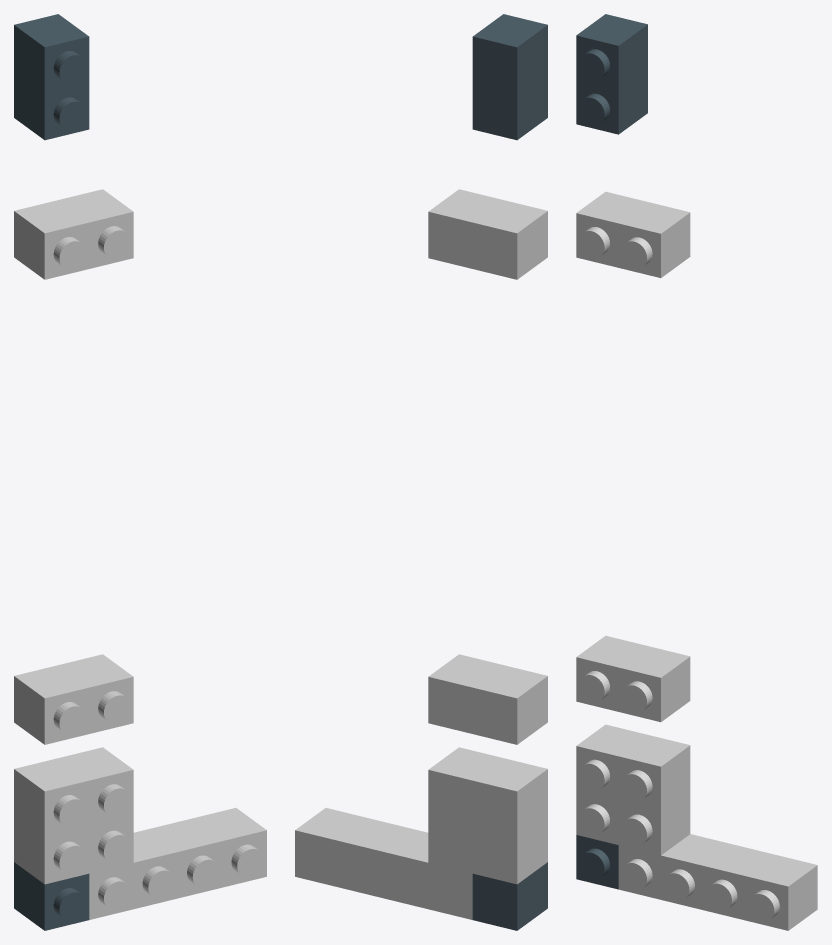
Rendered from current.glb.
3 renders of one model, left to right at view 1: azimuth 30°, elevation 25°; view 2: azimuth 150°, elevation 25°; view 3: azimuth 330°, elevation 25°, orthographic. The views are drawn at different scales.
Visible parts, largest first — view 1: world; view 2: world; view 3: world.
Part boxes in pixels (bbox=[...]): world: bbox=[14, 14, 266, 930]; world: bbox=[295, 14, 547, 930]; world: bbox=[576, 14, 817, 930].
Bounding box in the file's own units: 40 × 152 × 11.4.
